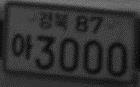0: (105, 40, 128, 78), (81, 38, 103, 75), (58, 37, 80, 73)
3: (34, 34, 55, 71)
7: (87, 14, 104, 35)
8: (74, 14, 89, 33)
경북_H: (37, 10, 70, 32)
아: (10, 31, 33, 62)
